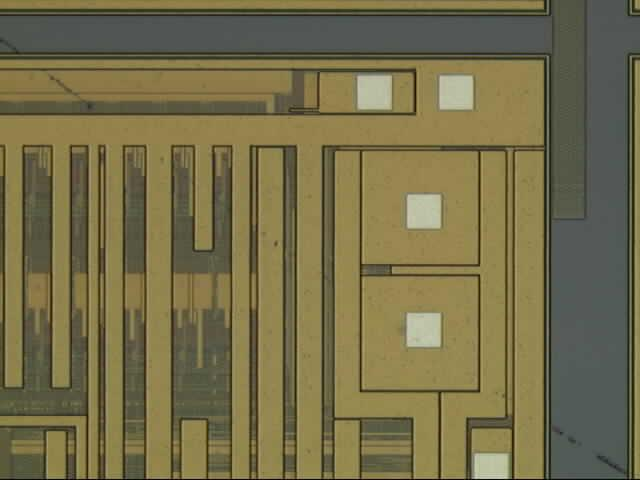SCRATCH: (1, 26, 640, 480)
